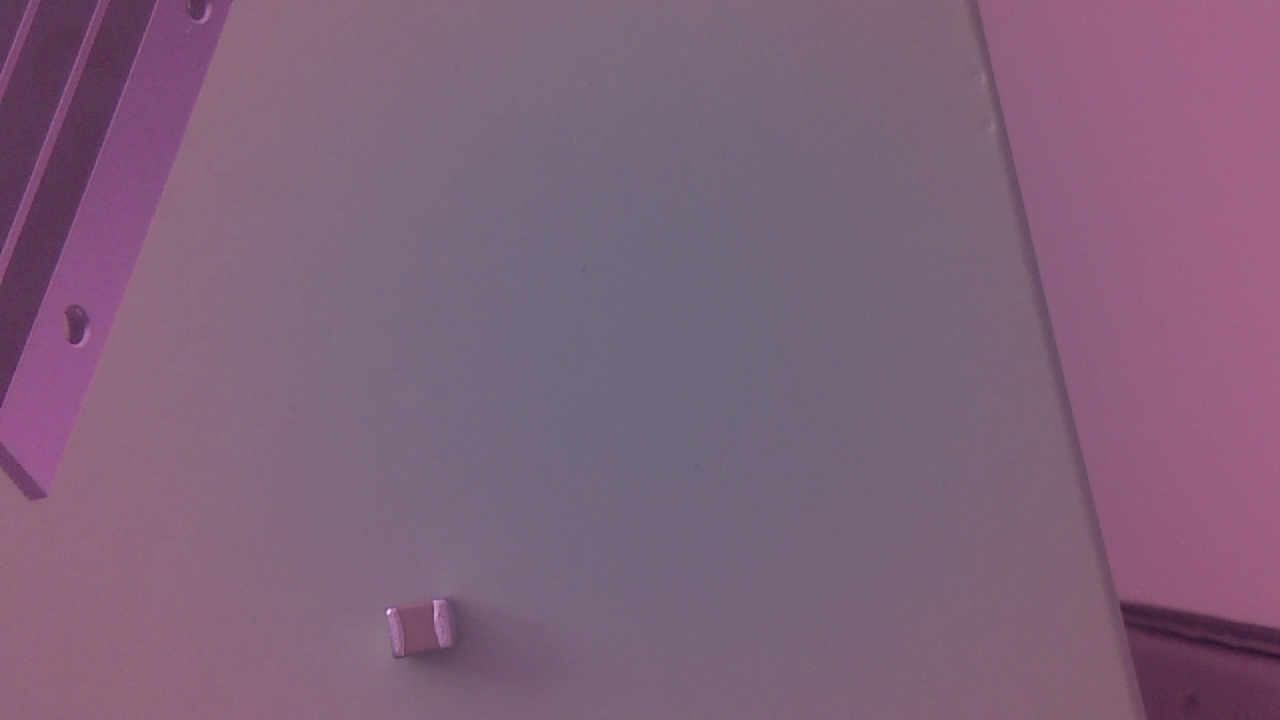Condensator: (378, 592, 465, 673)
